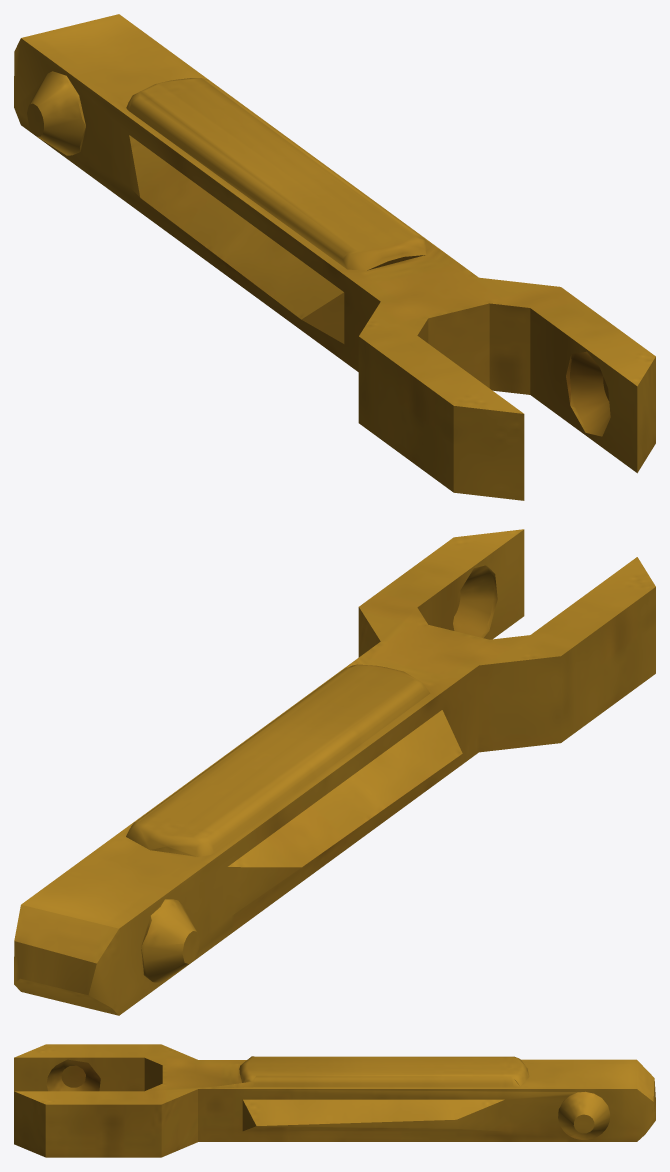
The model's file is inserter-arm-stack-upper.glb.
3 renders of one model, top to bottom at view 1: azimuth 30°, elevation 25°; view 2: azimuth 150°, elevation 25°; view 3: azimuth 270°, elevation 25°, orthographic. The views are drawn at different scales.
Visible parts, largest first — view 1: body; view 2: body; view 3: body.
Boxes of the visible parts, left/top/right/bottom form: body: left=14, top=14, right=655, bottom=500; body: left=14, top=529, right=655, bottom=1015; body: left=14, top=1044, right=655, bottom=1157.
Bounding box in the file's own units: 0.2197 × 0.1042 × 0.9905.
Materials: 1 (1 with a texture image).
